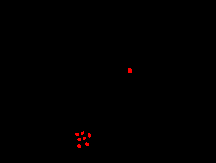Target: (128, 68, 132, 73), (85, 142, 89, 146), (77, 144, 81, 148), (88, 133, 91, 138), (81, 131, 84, 135), (75, 133, 79, 136), (77, 138, 81, 141), (83, 137, 86, 140)
